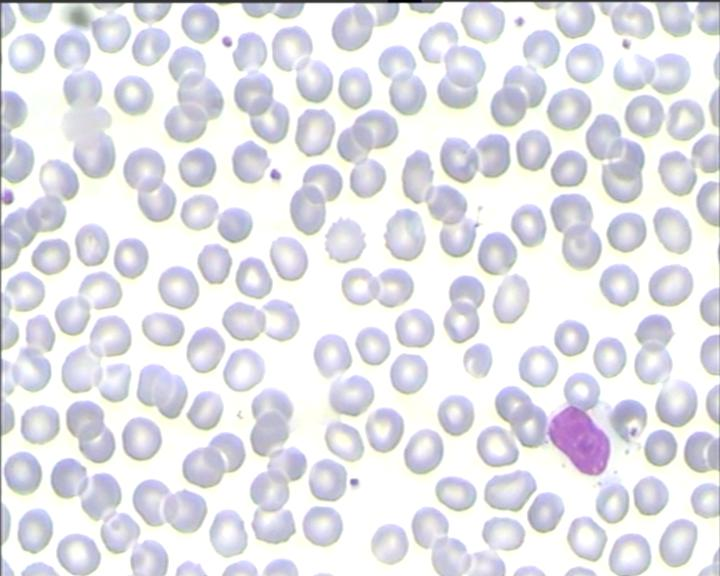mono: (545, 397, 633, 485)
